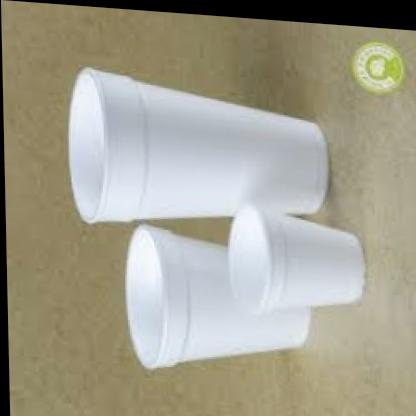Plastic: (47, 45, 391, 409)
